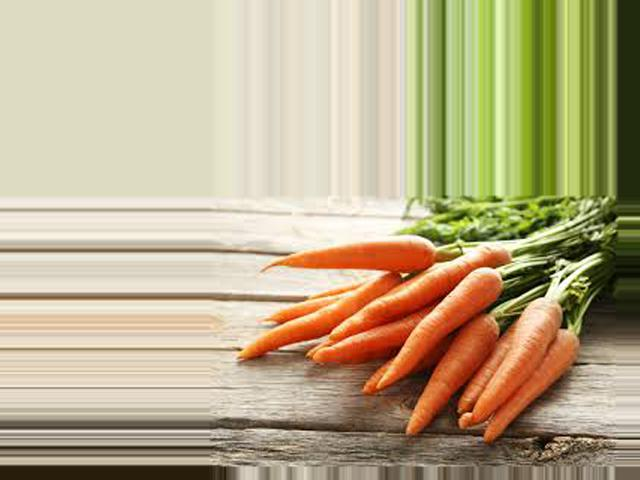carrot: (271, 222, 431, 275)
